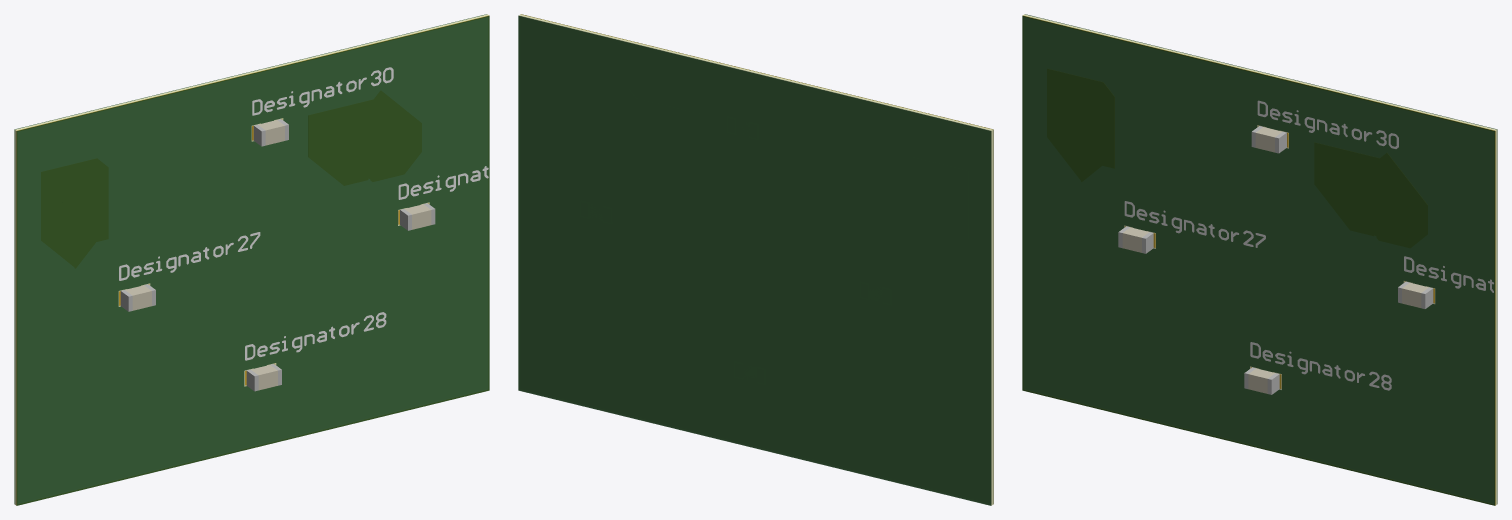
Rendered from newidea2.obj.
The picture shows the model from 3 angles, left to right: view 1: azimuth 30°, elevation 25°; view 2: azimuth 150°, elevation 25°; view 3: azimuth 330°, elevation 25°; orthographic projection.
Visible parts, largest first — view 1: Solder_Top, Core, PolyRegion, PolyRegion.1, Silk.9, Silk.11, Silk.12, Solder_Bottom, Silk.10, Track.1; view 2: Core, Solder_Bottom, Solder_Top; view 3: Solder_Top, Core, PolyRegion, PolyRegion.1, Silk.11, Silk.9, Silk.12, Solder_Bottom, Silk.10, Track.1.
Boxes of the visible parts, x1,y1,x2,y2 form: Solder_Top: (16, 15, 489, 505); Core: (14, 14, 488, 505); PolyRegion: (308, 91, 421, 185); PolyRegion.1: (41, 159, 107, 267); Silk.9: (252, 67, 393, 115); Silk.11: (245, 312, 386, 360); Silk.12: (119, 232, 260, 280); Solder_Bottom: (14, 14, 486, 503); Silk.10: (398, 166, 488, 199); Track.1: (16, 15, 488, 131); Core: (519, 14, 992, 505); Solder_Bottom: (518, 15, 991, 505); Solder_Top: (522, 14, 993, 503); Solder_Top: (1022, 15, 1495, 505); Core: (1023, 14, 1497, 505); PolyRegion: (1315, 143, 1427, 247); PolyRegion.1: (1047, 69, 1114, 181); Silk.11: (1250, 342, 1391, 390); Silk.9: (1257, 100, 1398, 148); Silk.12: (1124, 201, 1265, 247); Solder_Bottom: (1025, 14, 1497, 503); Silk.10: (1404, 256, 1493, 292); Track.1: (1023, 15, 1495, 131).
Size of the model in its own units: 5.87 by 4.45 by 0.2203.
